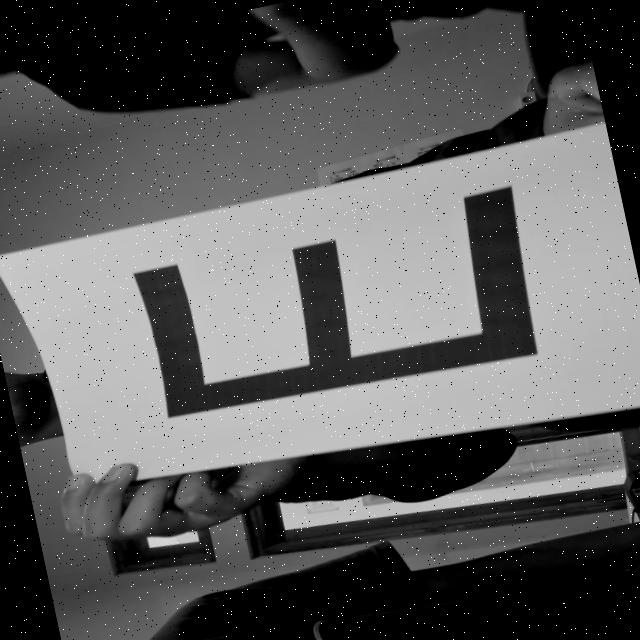e: (117, 171, 567, 442)
